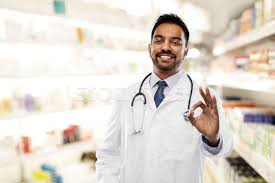Indian_Male: (147, 19, 188, 74)
